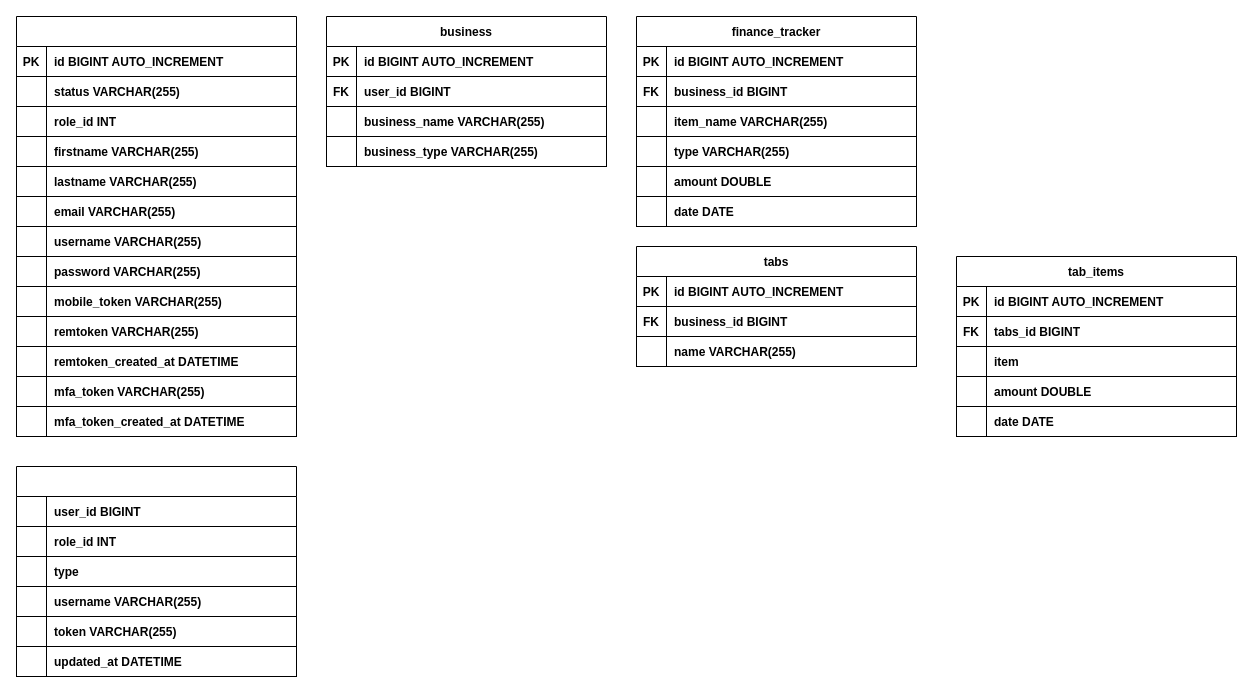
Some shapes in this 1253 by 693 pixel diagram are drawn without their labels. Each missing label, with the box of its shape:
sessions: (16, 466, 296, 676)
users: (16, 16, 296, 436)
